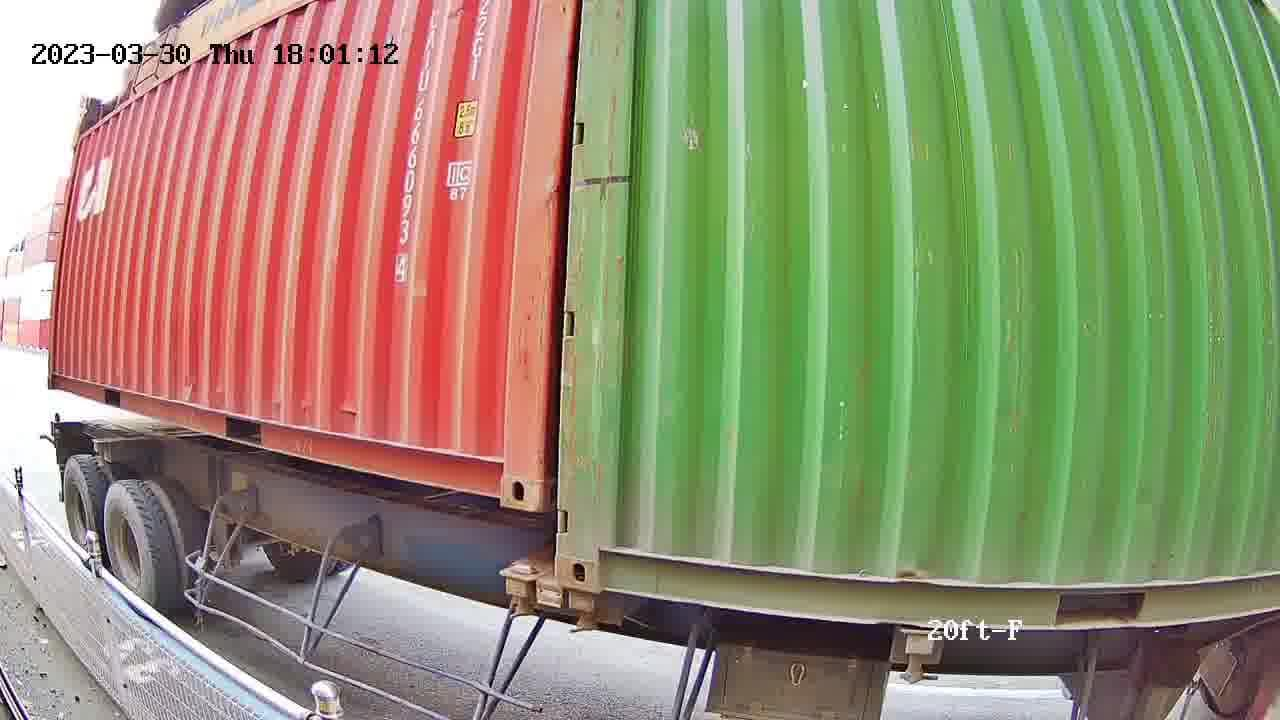Cone: (498, 561, 541, 618), (562, 589, 601, 638)
Hole_L: (556, 517, 637, 595)
Hole_R: (466, 423, 544, 513)
Tire: (104, 483, 160, 609), (62, 460, 98, 551)
